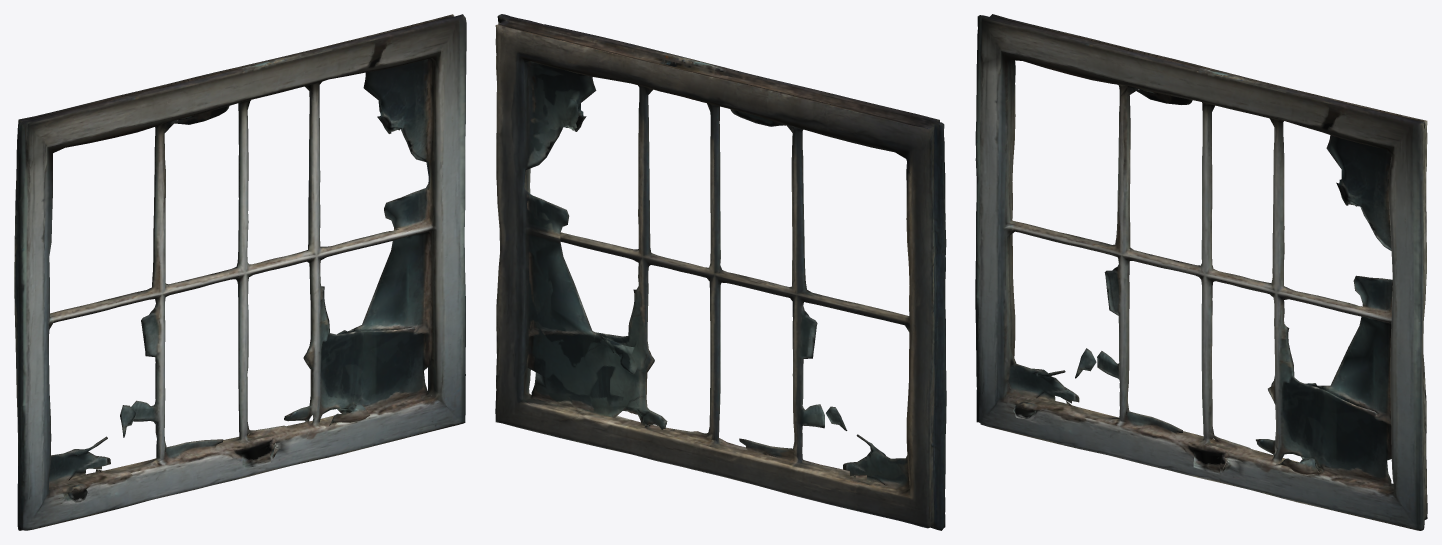
The model's file is A_creepy_broken_windo_0124150738_texture.fbx.
3 views of the same model, side by side, from view 1: azimuth 30°, elevation 25°; view 2: azimuth 150°, elevation 25°; view 3: azimuth 330°, elevation 25° (orthographic).
Parts seen in each view (by area): view 1: Mesh1_Mesh1.007; view 2: Mesh1_Mesh1.007; view 3: Mesh1_Mesh1.007.
Boxes of the visible parts, x1,y1,x2,y2 form: Mesh1_Mesh1.007: (14, 14, 466, 530); Mesh1_Mesh1.007: (495, 14, 946, 530); Mesh1_Mesh1.007: (975, 14, 1427, 530).
Bounding box in the file's own units: 201 × 175 × 13.73.
1 material, 1 textured.
